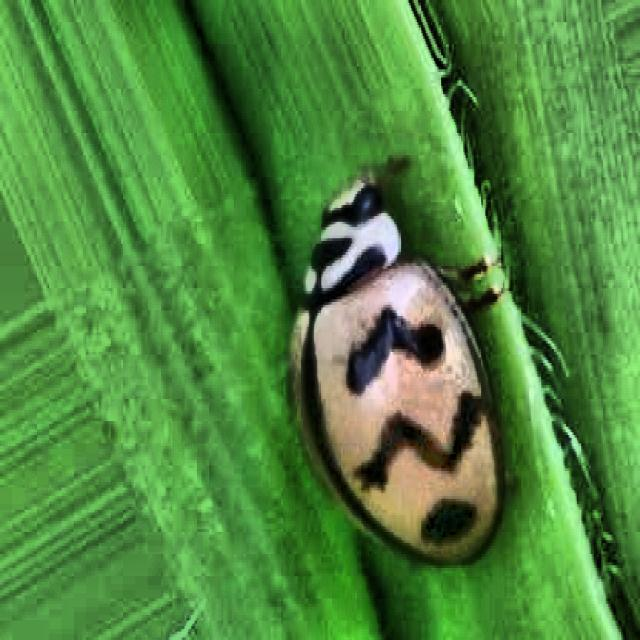Asian-Lady-beetle: (209, 130, 577, 629)
